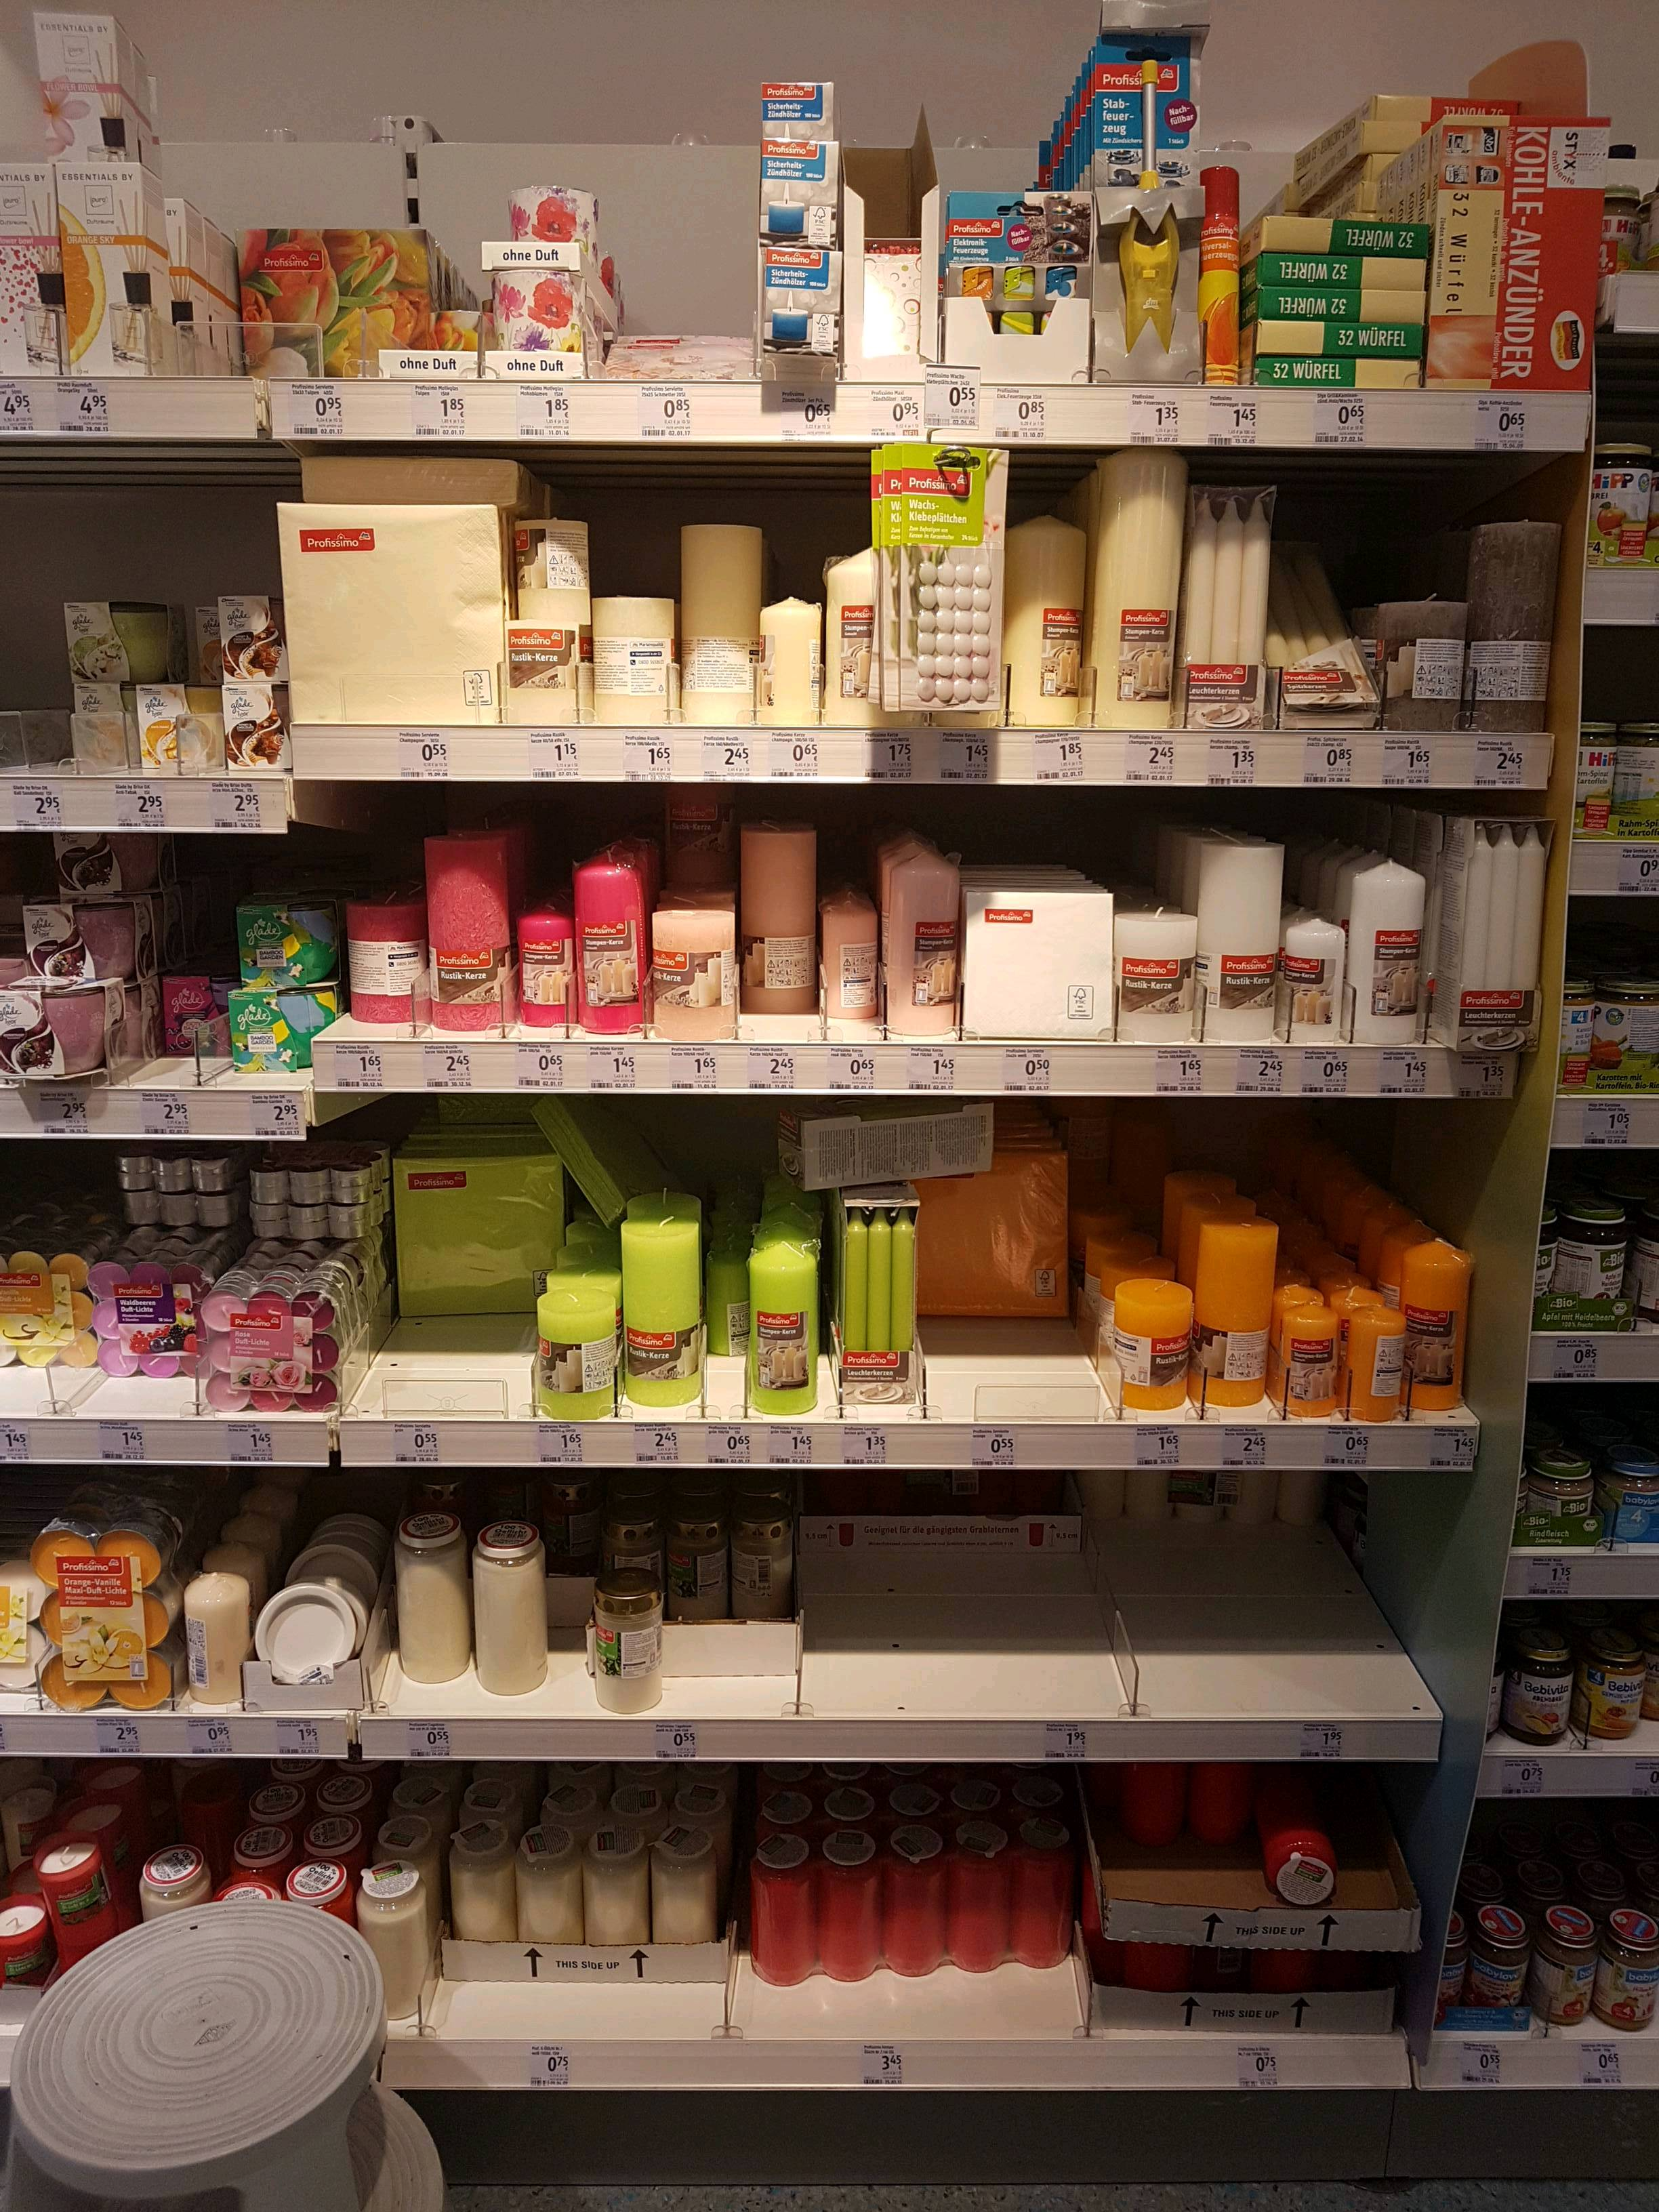Misplacement: (920, 1125, 1080, 1420)
Out-of-stock: (802, 1552, 1103, 1714)
